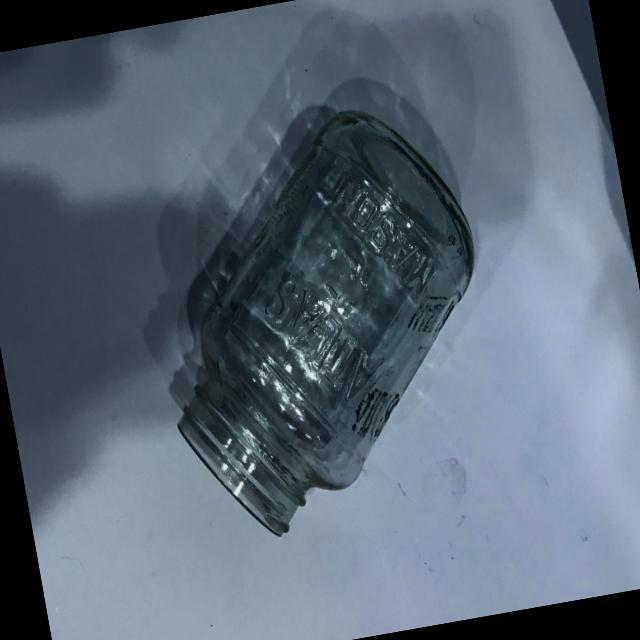glass: (121, 76, 526, 562)
